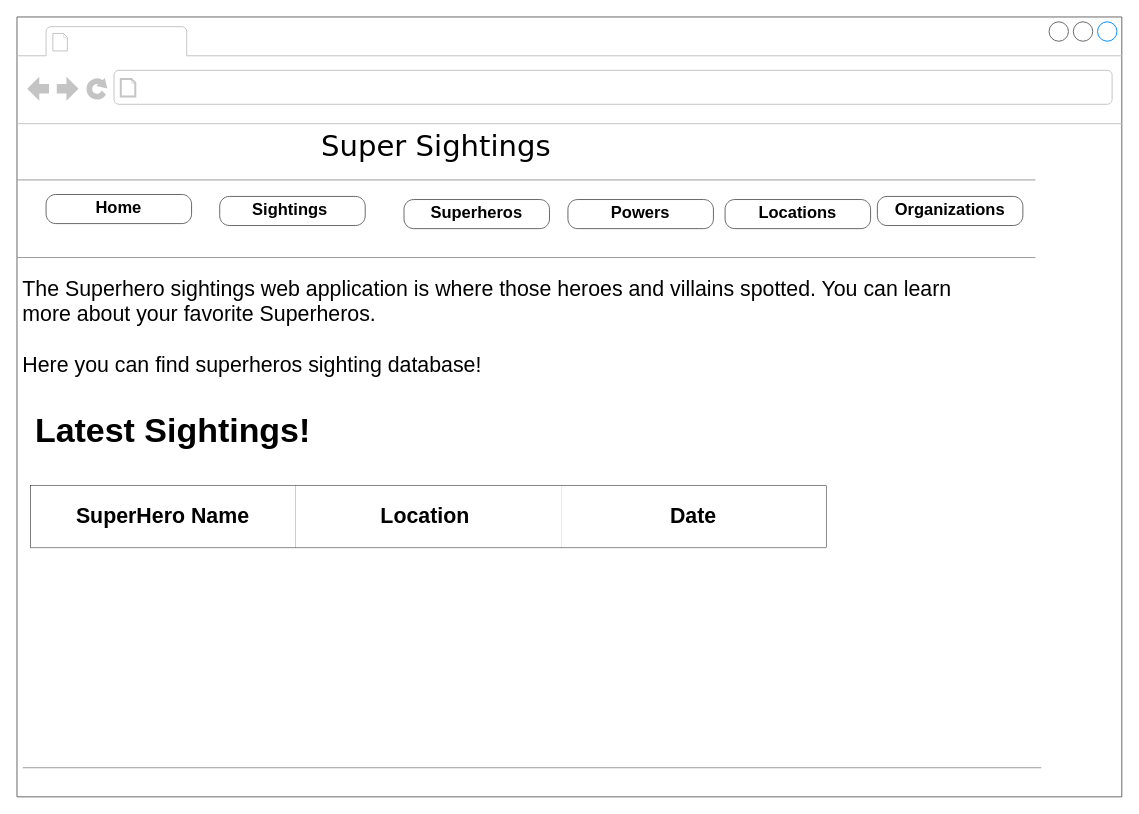
Image size: 1139x814. Some labels were removed from this diagram. Each missing label, with the centre of its shape:
https://localhost:8080/home.html: point 292,87
Page 1: point 128,41
